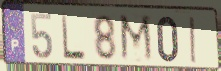0: (156, 15, 180, 65)
5: (29, 11, 55, 61)
8: (91, 13, 119, 62)
I: (188, 16, 199, 65)
L: (60, 12, 88, 62)
M: (118, 13, 156, 65)
